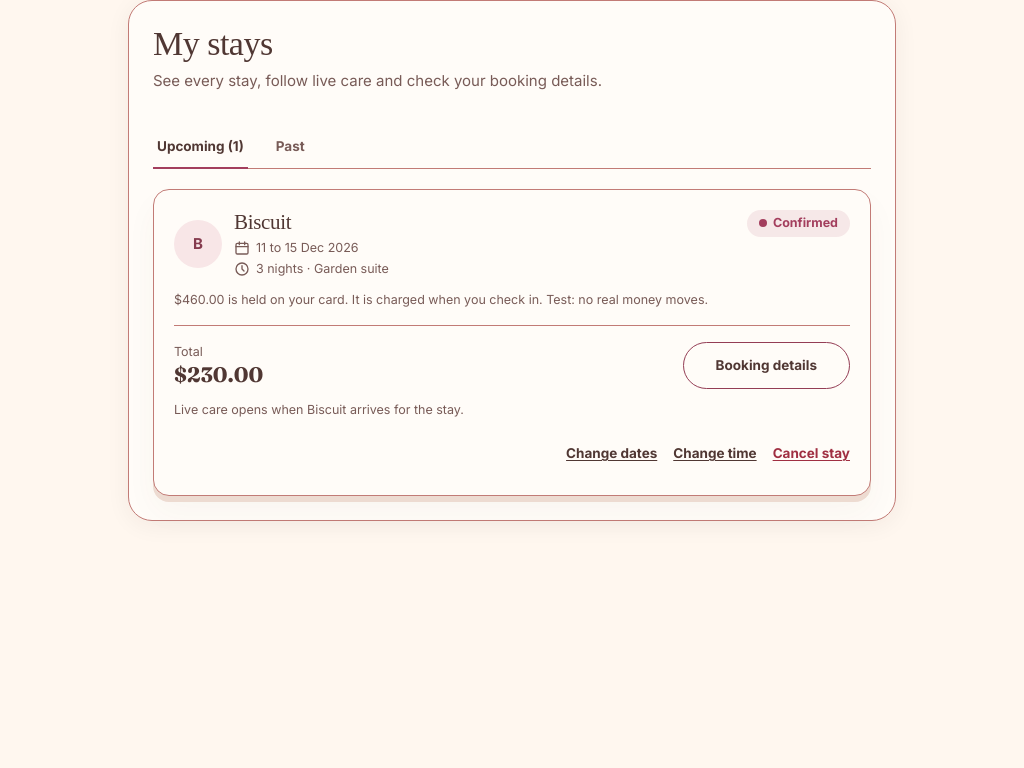
Test: My Stays with a saved card › says a request no manager has approved yet is free to withdraw
The width and height of the screenshot is (1024, 768).
Click the button "Cancel stay": (811, 453) [773,431,850,475]
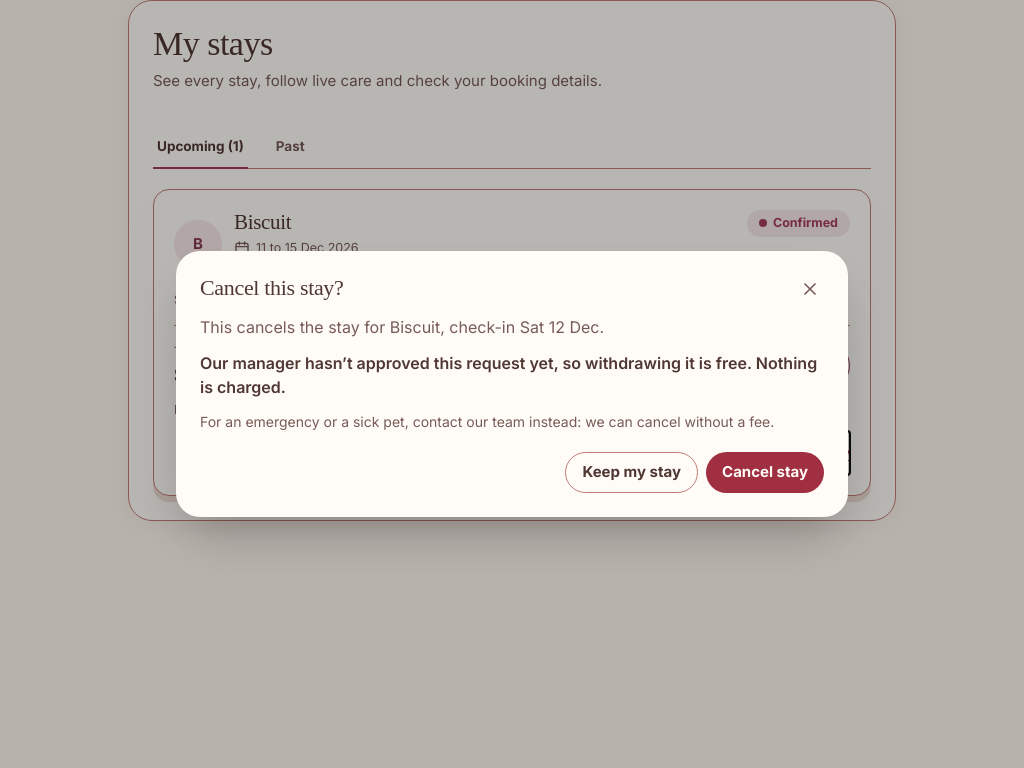
Now the text "Our manager hasn’t approved this request yet, so withdrawing it is free. Nothing is charged." is shown, box [200,353,817,397]
